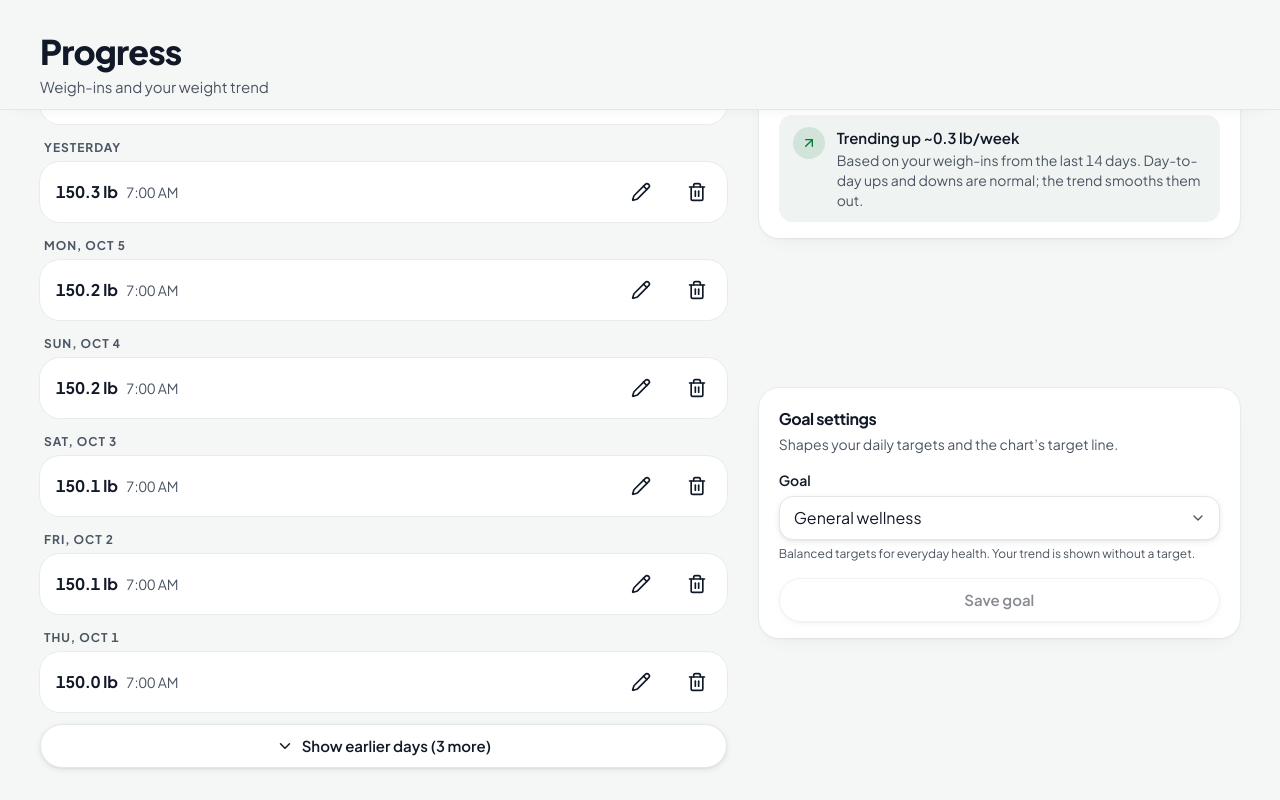
Progress: goal settings › stores an imperial target in kilograms
(page scrolled)
Select "Gain weight" in the dropdown labelled "Goal". click: (999, 518)
box: [779,496,1220,540]
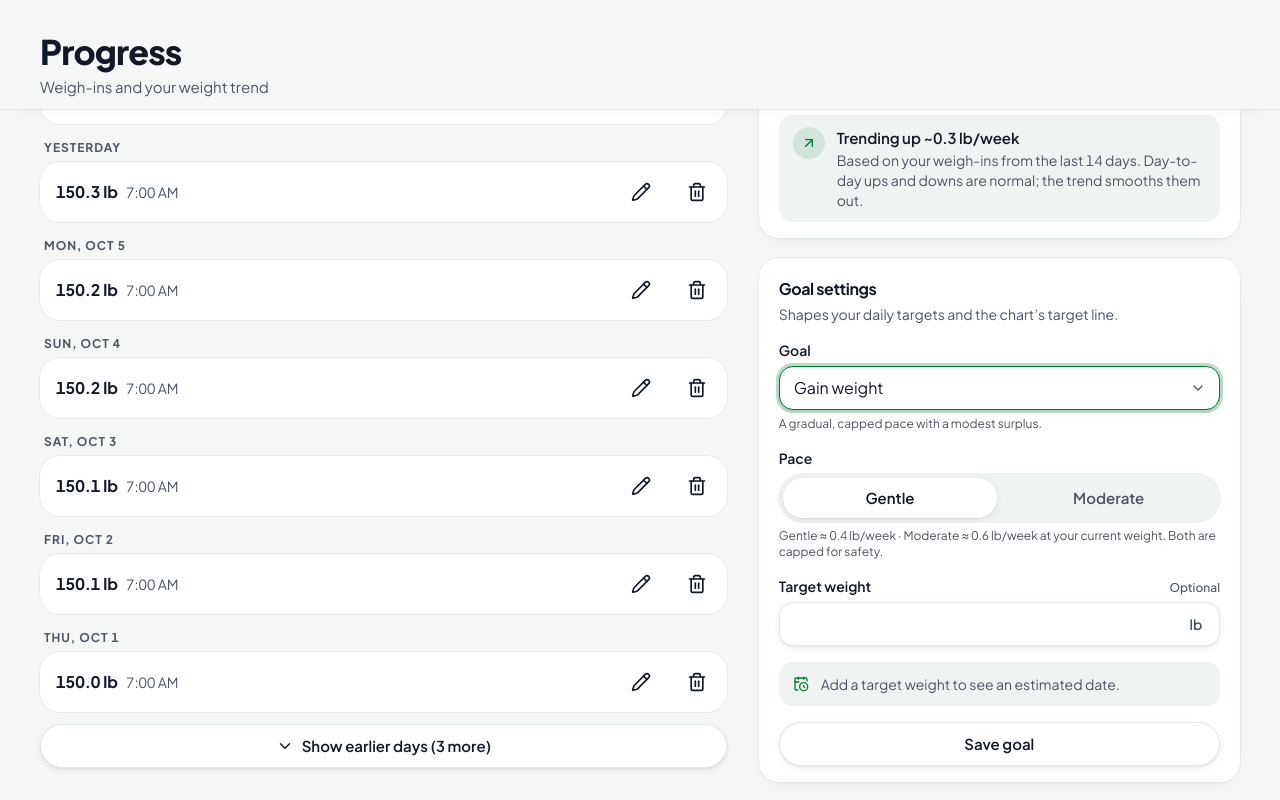
Result: the text "lb" is shown at [1190,614,1202,634]
Type "160" into the field labelled "Target weight Optional". click: (999, 624)
box: [779,602,1220,646]
(page scrolled)
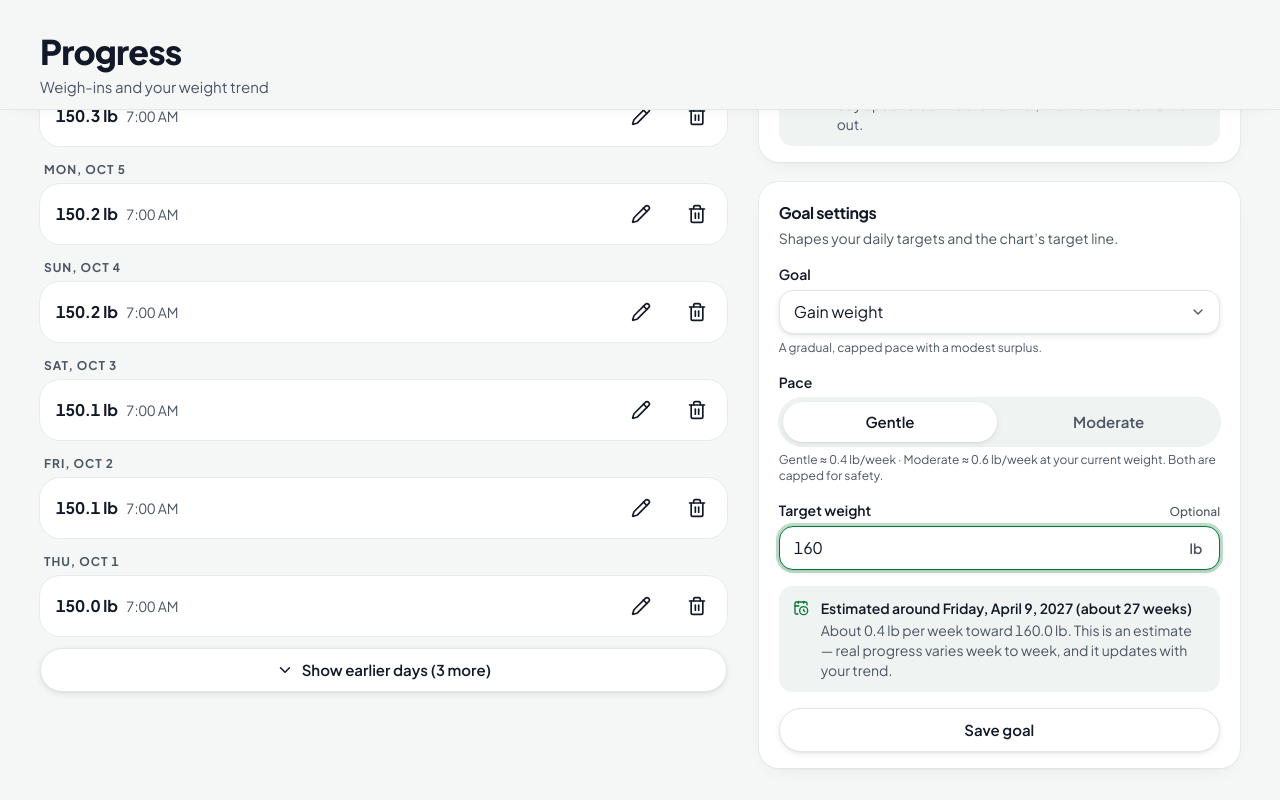
Click the button "Save goal". click: (999, 730)
box: [779,708,1220,752]
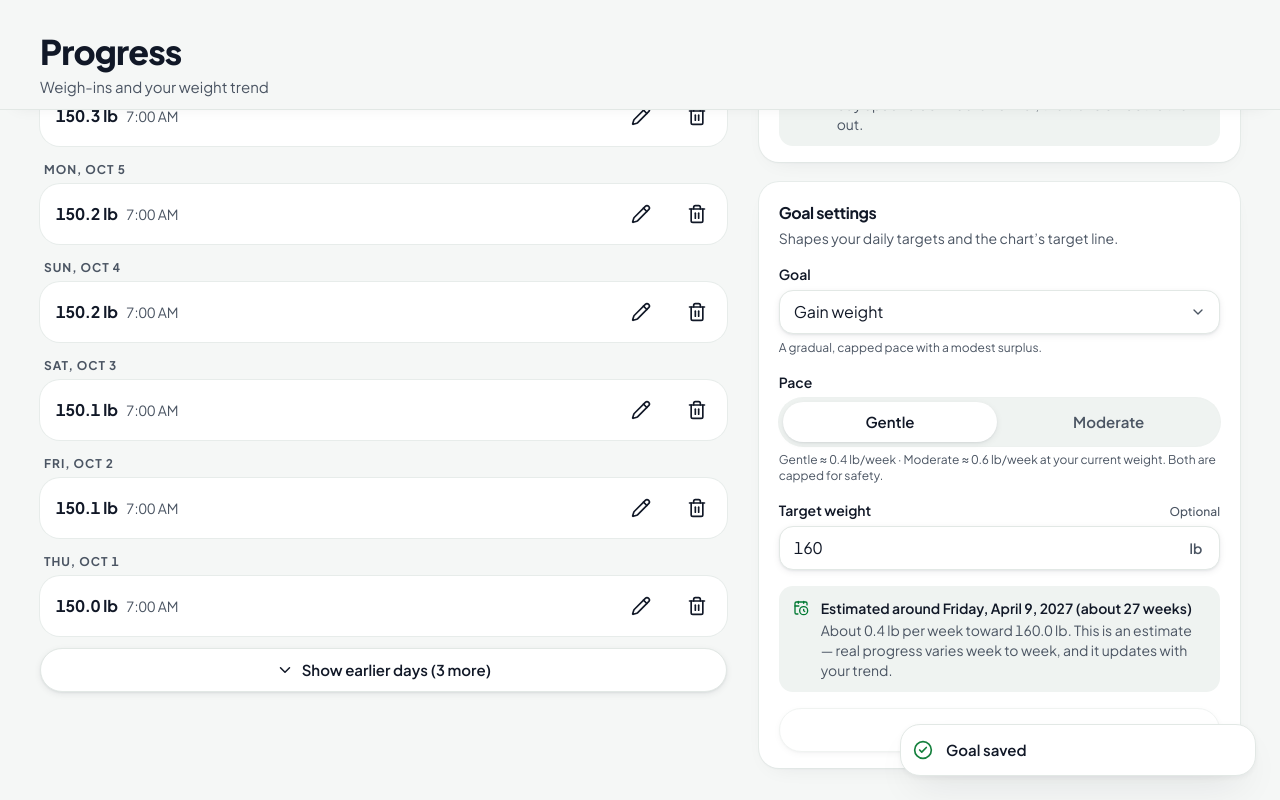
Result: the text "Goal saved" is shown at [946,738,1026,761]
Result: the field labelled "Target weight Optional" holds "160" at [779,526,1220,570]
